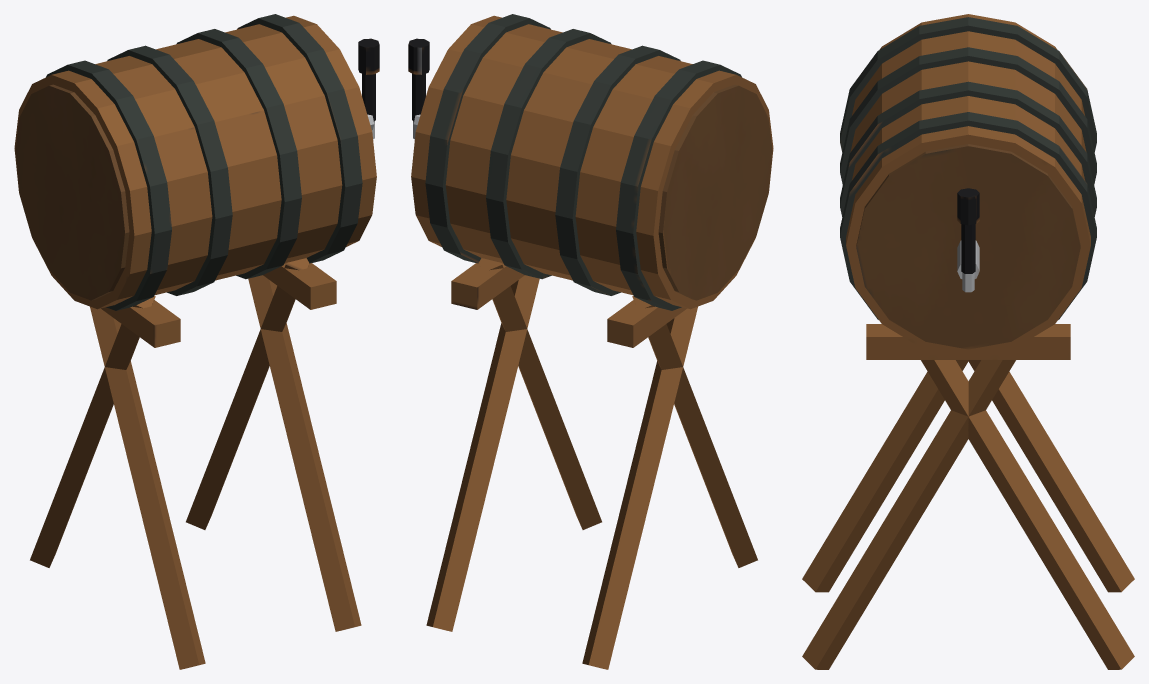
The model's file is sud_s_pipou_99914b93.glb.
3 renders of one model, left to right at view 1: azimuth 30°, elevation 25°; view 2: azimuth 150°, elevation 25°; view 3: azimuth 270°, elevation 25°, orthographic. The views are drawn at different scales.
Visible parts, largest first — view 1: dum; view 2: dum; view 3: dum.
Boxes of the visible parts, x1,y1,x2,y2 form: dum: (14,14,379,669); dum: (408,14,773,669); dum: (802,14,1134,669).
Bounding box in the file's own units: 0.7102 × 1.21 × 0.651.
1 material, 1 textured.
